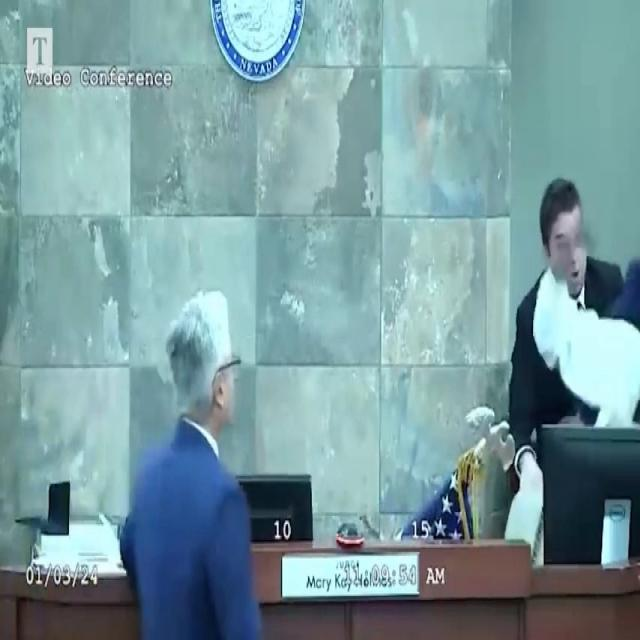fight: (505, 156, 640, 583)
non-fight: (110, 287, 266, 640)
